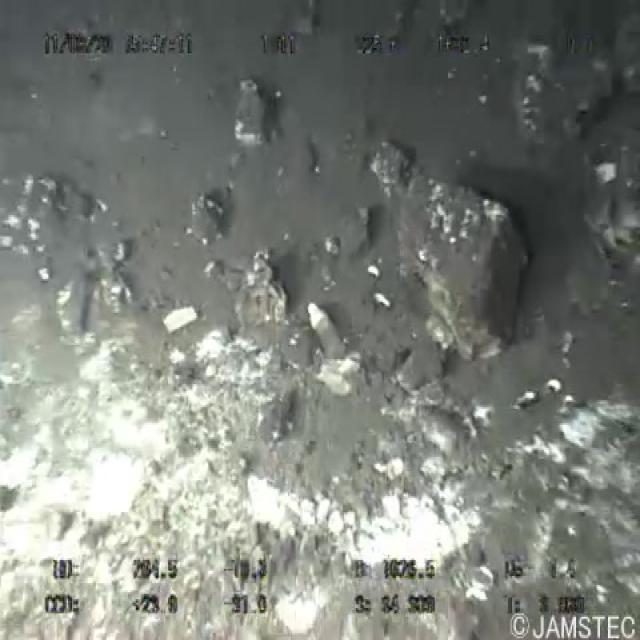plastic: (303, 295, 345, 365)
